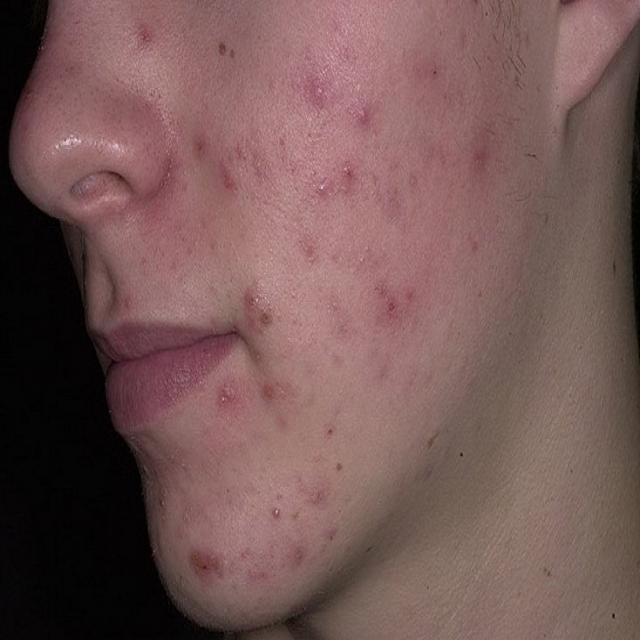Acne: (265, 424, 344, 573), (367, 126, 447, 216), (193, 136, 289, 200), (140, 454, 193, 524), (188, 552, 260, 594), (308, 162, 358, 216), (212, 378, 282, 416), (367, 276, 404, 336), (462, 137, 498, 190), (242, 290, 282, 334), (208, 32, 248, 76), (298, 68, 334, 114), (418, 53, 454, 91), (124, 15, 157, 56), (333, 243, 373, 274), (464, 230, 489, 270), (299, 239, 324, 267), (351, 104, 376, 130), (125, 290, 138, 318)
